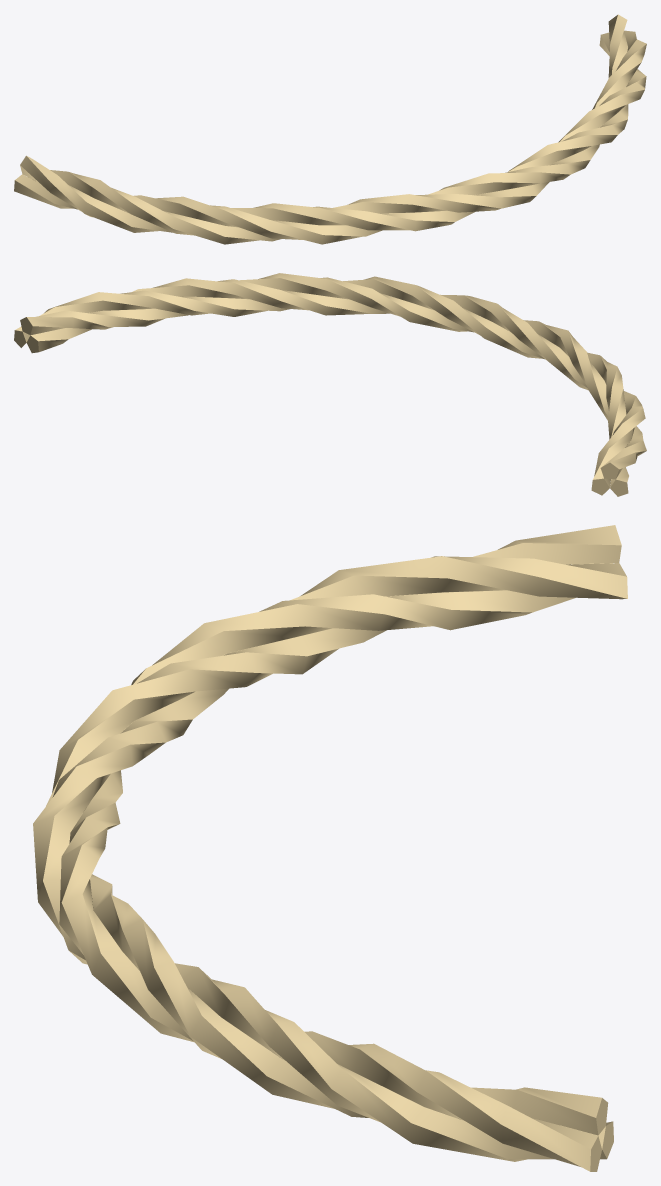
The model's file is Three_Side_Rope_Dip.fbx.
3 views of the same model, one above another, from view 1: azimuth 30°, elevation 25°; view 2: azimuth 150°, elevation 25°; view 3: azimuth 270°, elevation 25° (orthographic). The views are drawn at different scales.
Visible parts, largest first — view 1: sweep9; view 2: sweep9; view 3: sweep9.
Part boxes in pixels (x1,y1,x2,y2): sweep9: (14,14,646,244); sweep9: (14,273,646,496); sweep9: (33,525,627,1171).
Size of the model in its own units: 31.81 by 1.94 by 13.27.
Materials: 1 (1 with a texture image).
